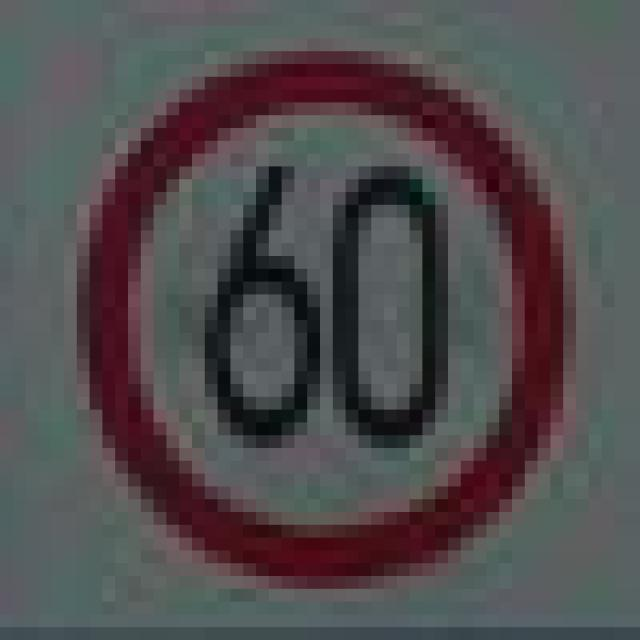SPEED_LIMIT_60: (64, 38, 550, 576)
